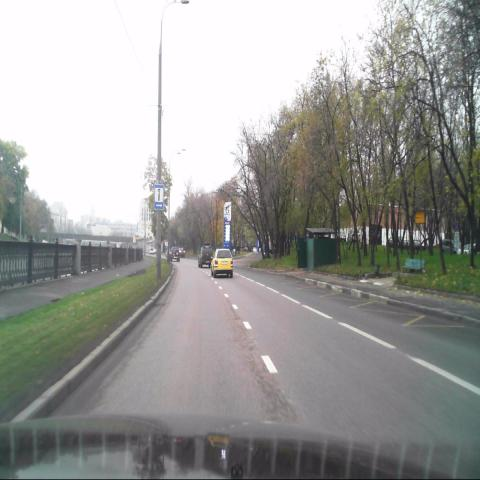7_4: (154, 185, 164, 210)
